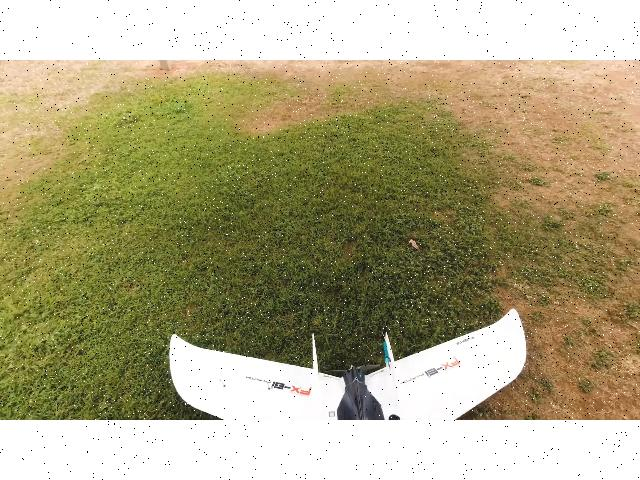Anti-Drone: (157, 294, 557, 420)
